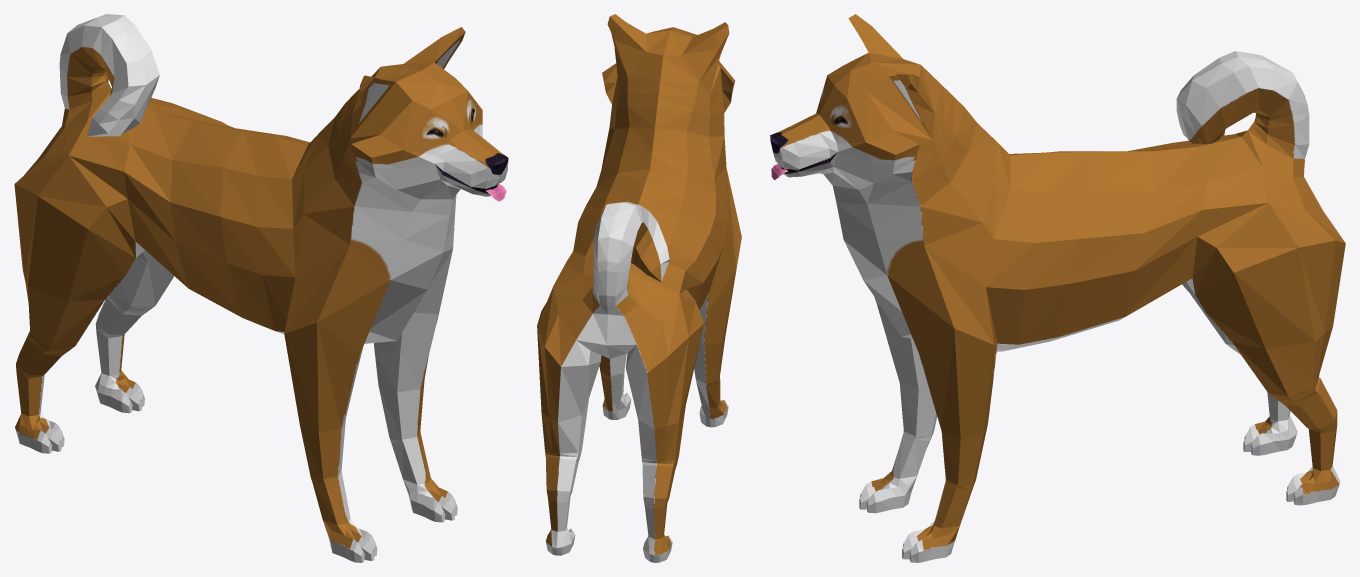
Rendered from dog.dc02d258.glb.
3 views of the same model, side by side, from view 1: azimuth 30°, elevation 25°; view 2: azimuth 150°, elevation 25°; view 3: azimuth 270°, elevation 25° (orthographic). The views are drawn at different scales.
Parts seen in each view (by area): view 1: dogglb; view 2: dogglb; view 3: dogglb.
Part boxes in pixels (x1,y1,x2,y2): dogglb: (14, 14, 508, 562); dogglb: (537, 14, 741, 562); dogglb: (770, 14, 1345, 562).
Size of the model in its own units: 5.07 by 8.74 by 9.28.
1 material, 1 textured.
